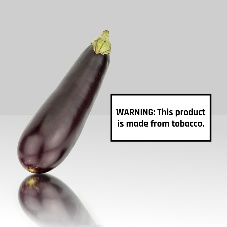eggplant: (17, 44, 113, 176)
